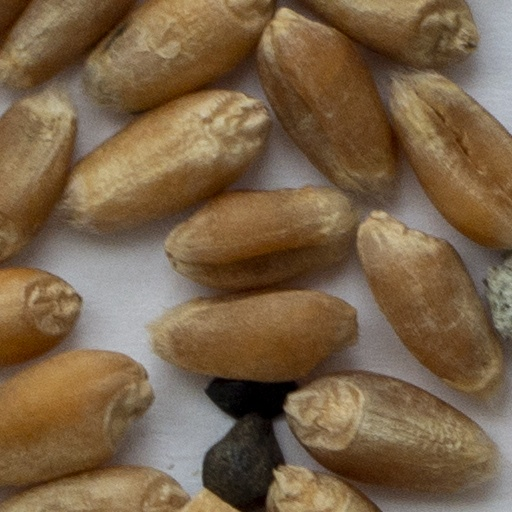Convolvulus-poly: (203, 414, 280, 507)
Fallopia-Convolvulus-poly: (207, 379, 297, 415)
